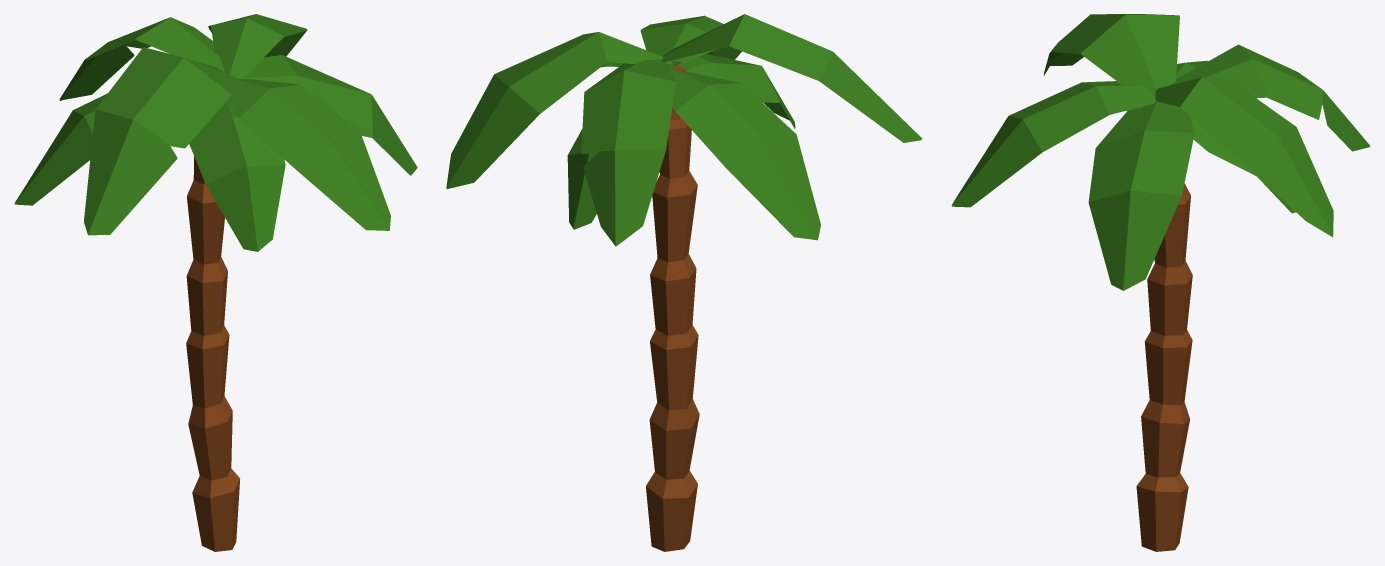
File: PalmTree1_tex.fbx
3 renders of one model, left to right at view 1: azimuth 30°, elevation 25°; view 2: azimuth 150°, elevation 25°; view 3: azimuth 270°, elevation 25°, orthographic. The views are drawn at different scales.
Visible parts, largest first — view 1: PalmTree1_tex; view 2: PalmTree1_tex; view 3: PalmTree1_tex.
Boxes of the visible parts, x1,y1,x2,y2 form: PalmTree1_tex: (14, 14, 417, 551); PalmTree1_tex: (446, 14, 922, 551); PalmTree1_tex: (951, 14, 1370, 551).
Size of the model in its own units: 3.16 by 4.21 by 3.17.
